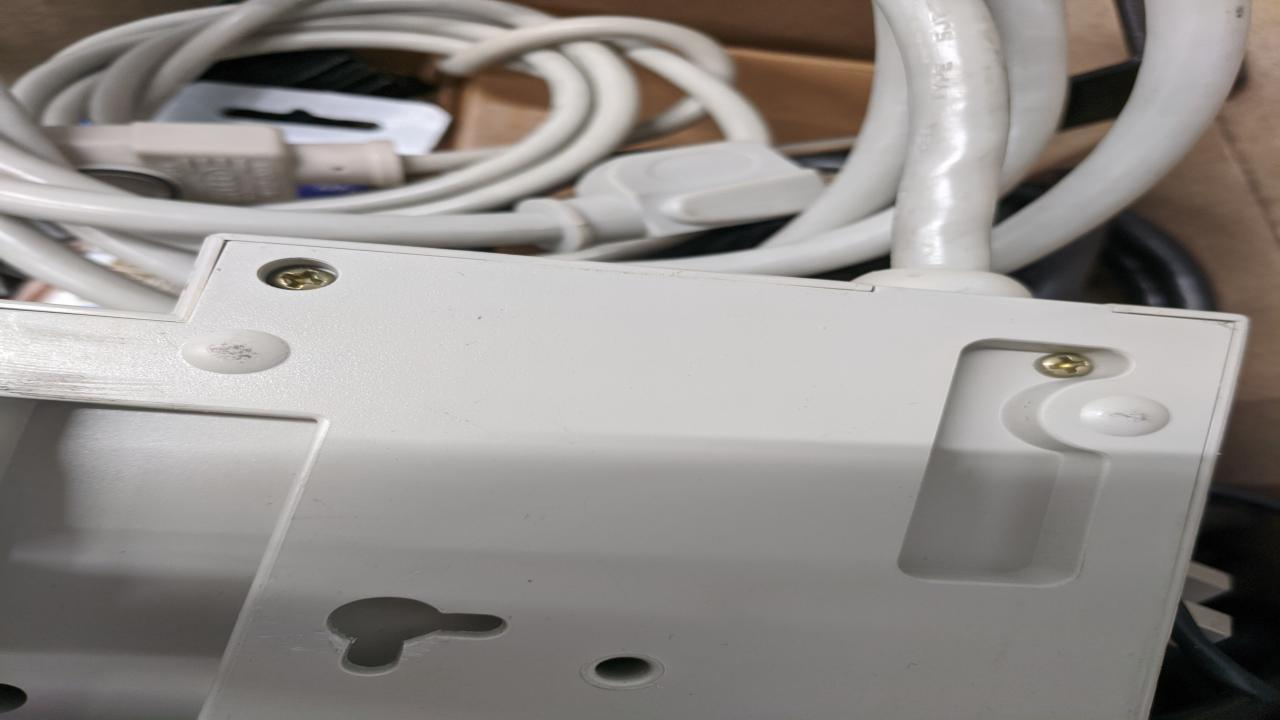CRS: (258, 263, 338, 290), (1036, 350, 1094, 380)
